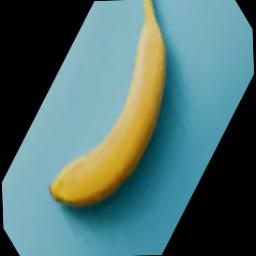Banana Ripe: (7, 17, 253, 256)
